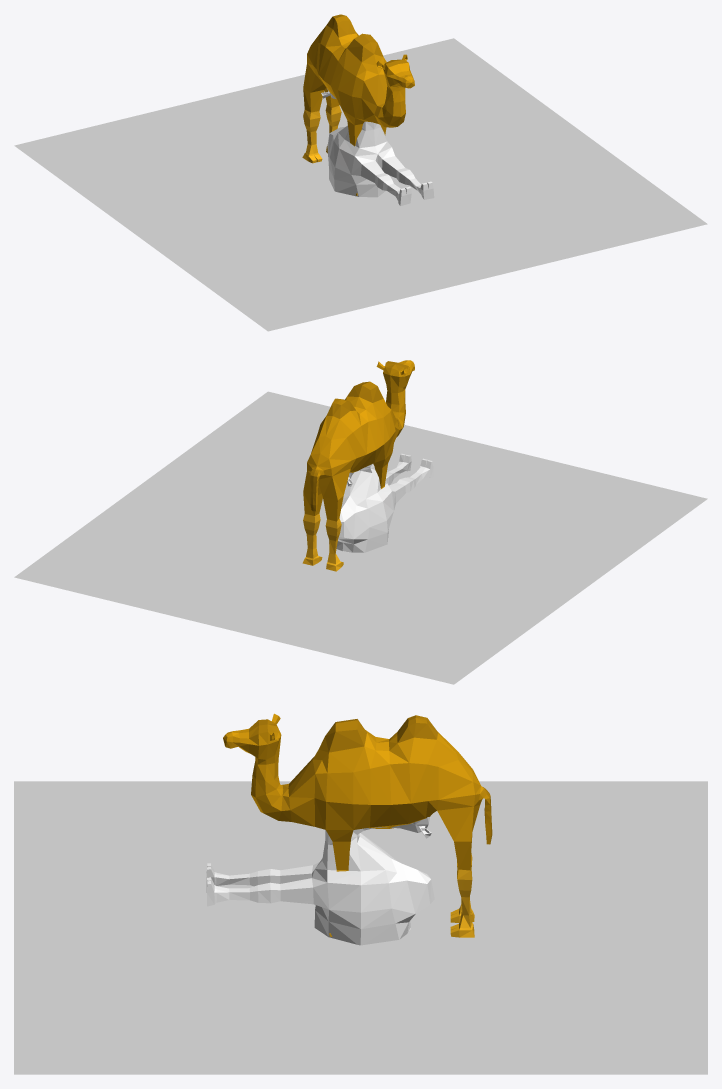
Rendered from camel.fbx.
3 renders of one model, top to bottom at view 1: azimuth 30°, elevation 25°; view 2: azimuth 150°, elevation 25°; view 3: azimuth 270°, elevation 25°, orthographic. The views are drawn at different scales.
Parts seen in each view (by area): view 1: Plane, Sphere, Sphere.001; view 2: Plane, Sphere, Sphere.001; view 3: Plane, Sphere, Sphere.001.
Boxes of the visible parts, box(x1,y1,x2,y2) form: Plane: box(14, 38, 707, 331); Sphere: box(302, 14, 414, 195); Sphere.001: box(321, 89, 434, 206); Plane: box(14, 391, 707, 684); Sphere: box(302, 360, 414, 571); Sphere.001: box(329, 453, 434, 552); Plane: box(14, 781, 707, 1074); Sphere: box(223, 713, 492, 937); Sphere.001: box(206, 815, 434, 945).
Bounding box in the file's own units: 2456 × 1185 × 2456.
